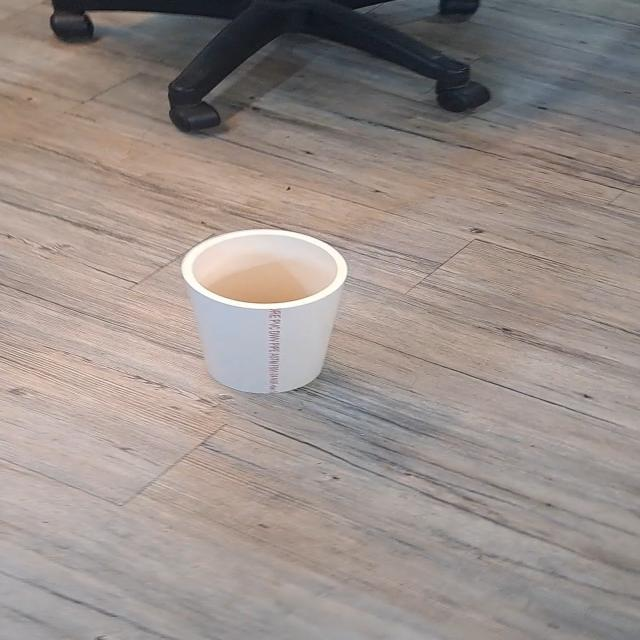CORAL: (178, 223, 357, 400)
